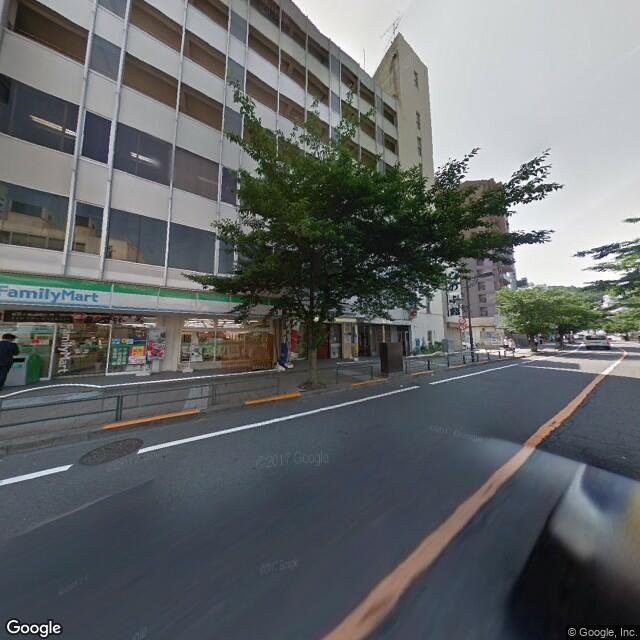family_mart: (2, 267, 272, 324), (1, 281, 99, 306)
